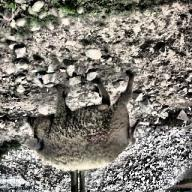boar: (21, 70, 141, 172)
